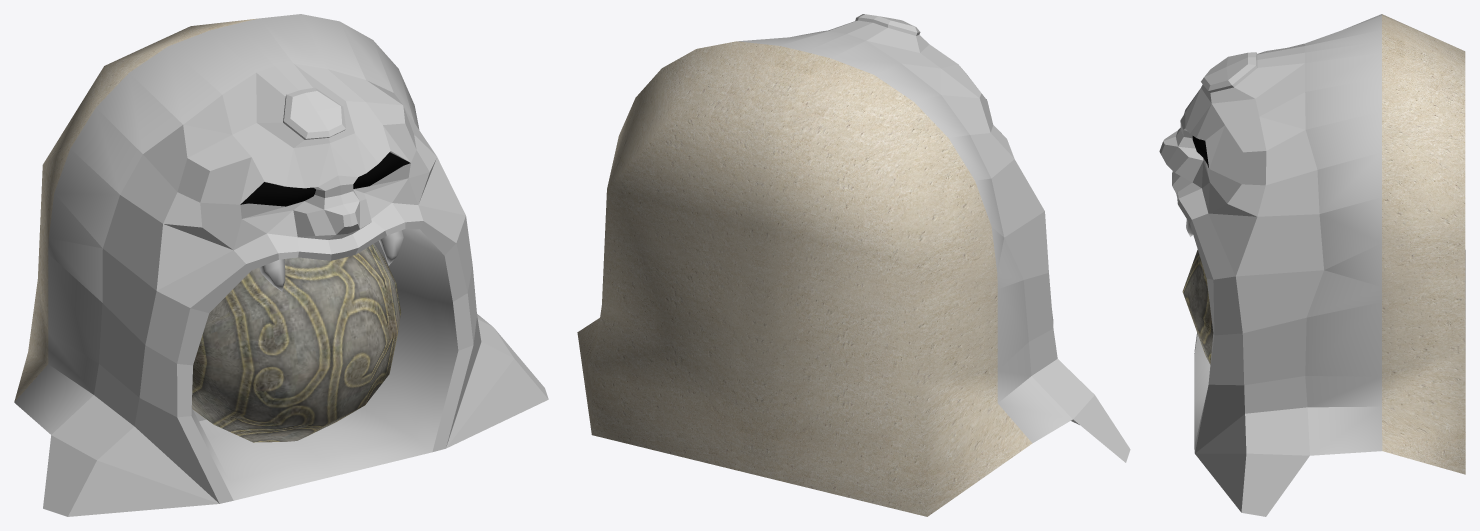
File: Dragon_Ball_Device.fbx
3 views of the same model, side by side, from view 1: azimuth 30°, elevation 25°; view 2: azimuth 150°, elevation 25°; view 3: azimuth 270°, elevation 25° (orthographic). The views are drawn at different scales.
Visible parts, largest first — view 1: polySurface559, ball, polySurface558; view 2: polySurface559; view 3: polySurface559, ball.
Boxes of the visible parts, x1,y1,x2,y2 form: polySurface559: [14, 14, 548, 516]; ball: [191, 244, 401, 442]; polySurface558: [240, 152, 410, 206]; polySurface559: [577, 14, 1130, 516]; polySurface559: [1159, 14, 1465, 516]; ball: [1182, 250, 1213, 364].
Bounding box in the file's own units: 80.58 × 58.49 × 45.03.
